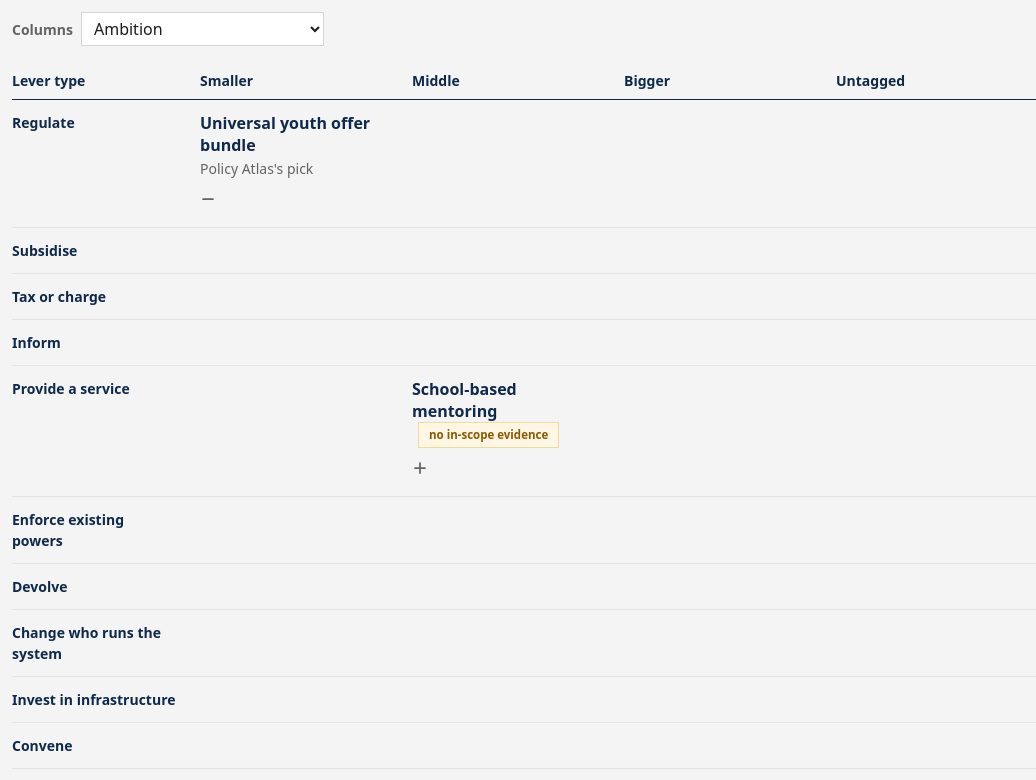
Scenario: LonglistGrid › shows a refused shortlist action's notice under its tile
The image size is (1036, 780).
Click the button named "Add to shortlist" at (428, 468), box [412, 452, 444, 484]
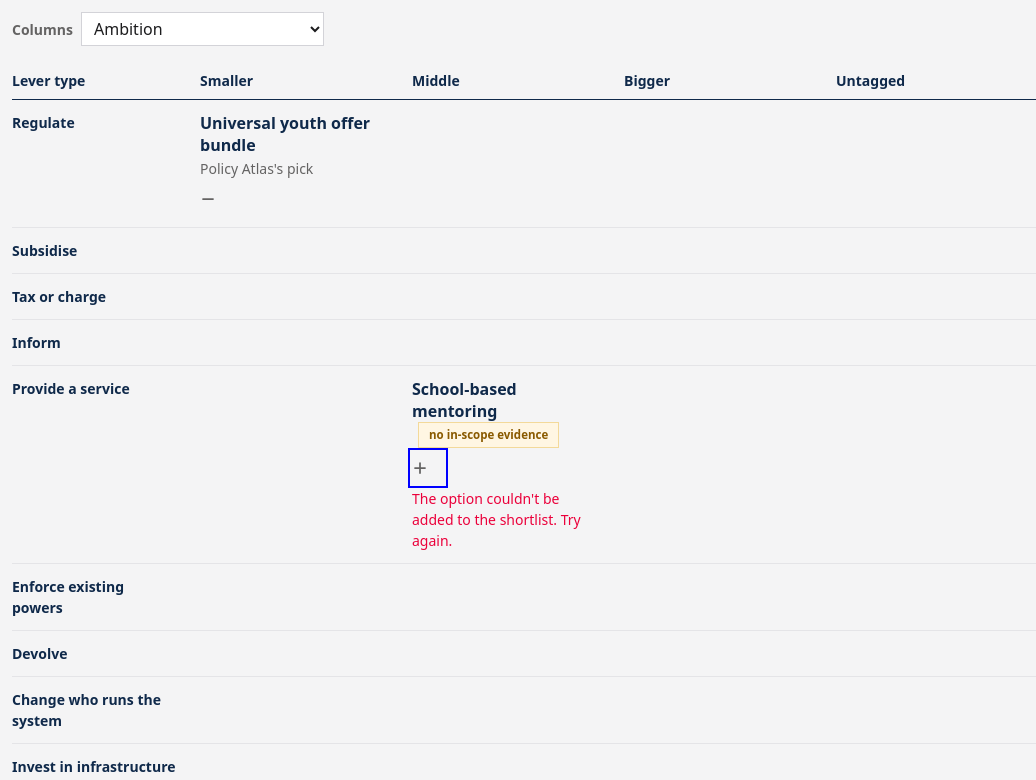
Expected: the message reads "The option couldn't be added to the shortlist. Try again.", [412, 489, 581, 550]
Expected: the number of messages is 1, [412, 488, 600, 551]
